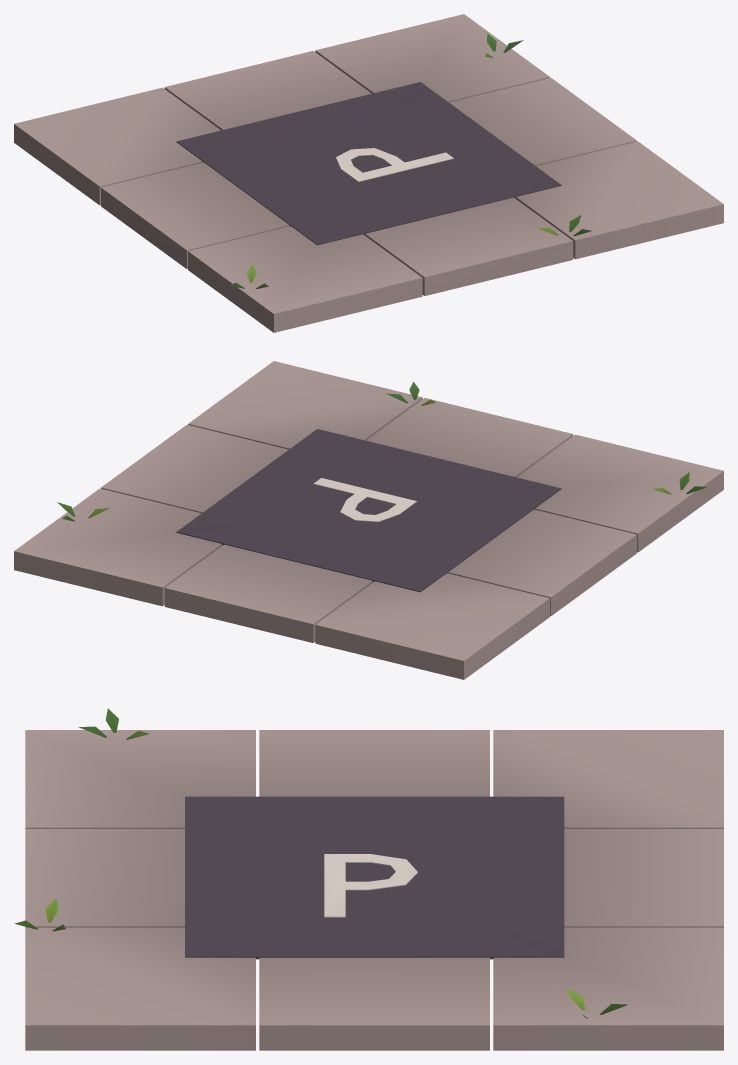
The picture shows the model from 3 angles, top to bottom: view 1: azimuth 30°, elevation 25°; view 2: azimuth 150°, elevation 25°; view 3: azimuth 270°, elevation 25°; orthographic projection. The views are drawn at different scales.
Visible parts, largest first — view 1: root_pal_sidewalk, root_pal_asphalt, root_pal_picketWhite; view 2: root_pal_sidewalk, root_pal_asphalt, root_pal_picketWhite, root_pal_foliageDark; view 3: root_pal_sidewalk, root_pal_asphalt, root_pal_picketWhite, root_pal_foliageDark.
Part boxes in pixels (<box>): root_pal_sidewalk: <box>14,14,723,332</box>; root_pal_asphalt: <box>176,82,561,245</box>; root_pal_picketWhite: <box>336,148,453,181</box>; root_pal_sidewalk: <box>14,361,723,679</box>; root_pal_asphalt: <box>176,429,561,592</box>; root_pal_picketWhite: <box>313,478,416,521</box>; root_pal_foliageDark: <box>57,382,706,521</box>; root_pal_sidewalk: <box>25,730,723,1050</box>; root_pal_asphalt: <box>185,796,564,959</box>; root_pal_picketWhite: <box>324,854,417,917</box>; root_pal_foliageDark: <box>14,708,627,1018</box>.
Bounding box in the file's own units: 3.13 × 0.18 × 3.03.
